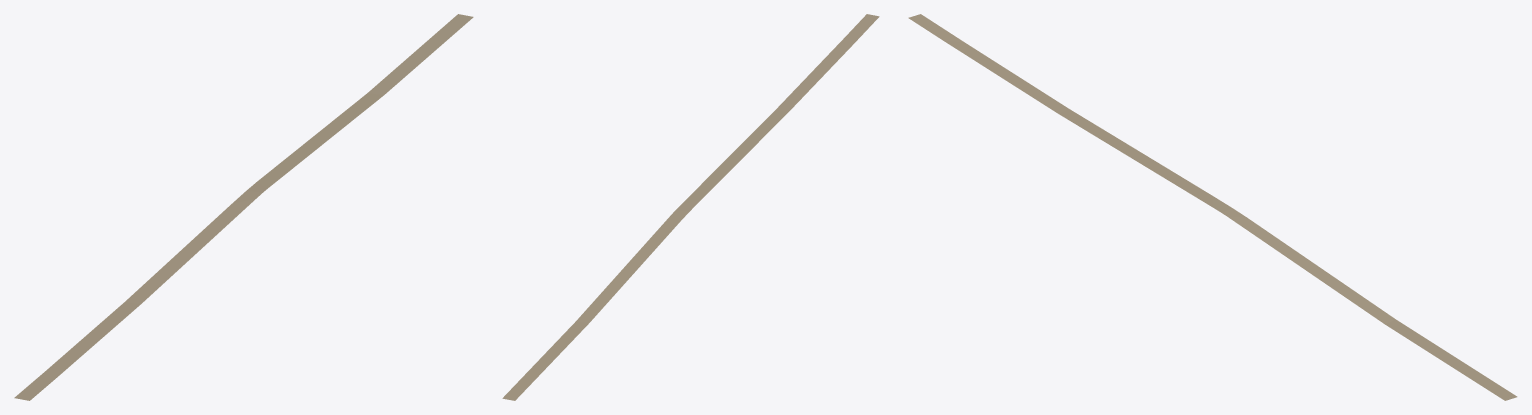
Rendered from farm_23_25_track.glb.
3 renders of one model, left to right at view 1: azimuth 30°, elevation 25°; view 2: azimuth 210°, elevation 25°; view 3: azimuth 270°, elevation 25°, orthographic. The views are drawn at different scales.
Parts seen in each view (by area): view 1: geometry_0; view 2: geometry_0; view 3: geometry_0.
Part boxes in pixels (x1,y1,x2,y2): geometry_0: [14, 14, 473, 400]; geometry_0: [502, 14, 879, 400]; geometry_0: [908, 14, 1517, 400].
Size of the model in its own units: 171 by 8.84 by 126.
